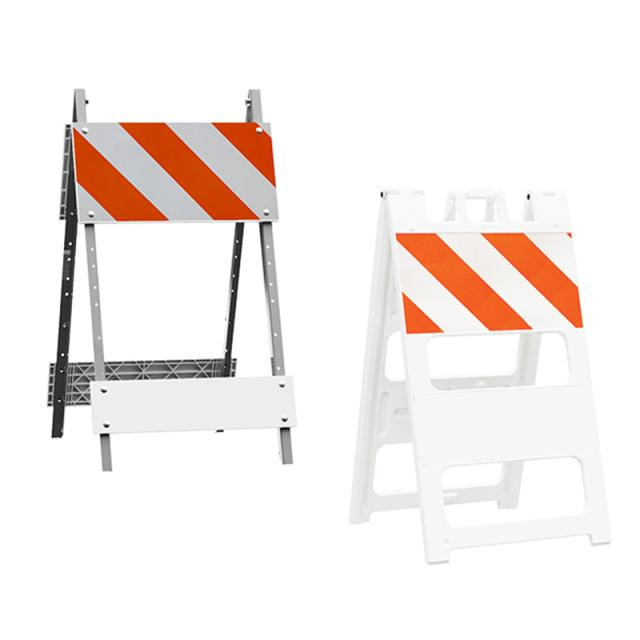cone: (349, 185, 612, 563), (46, 87, 297, 470)
